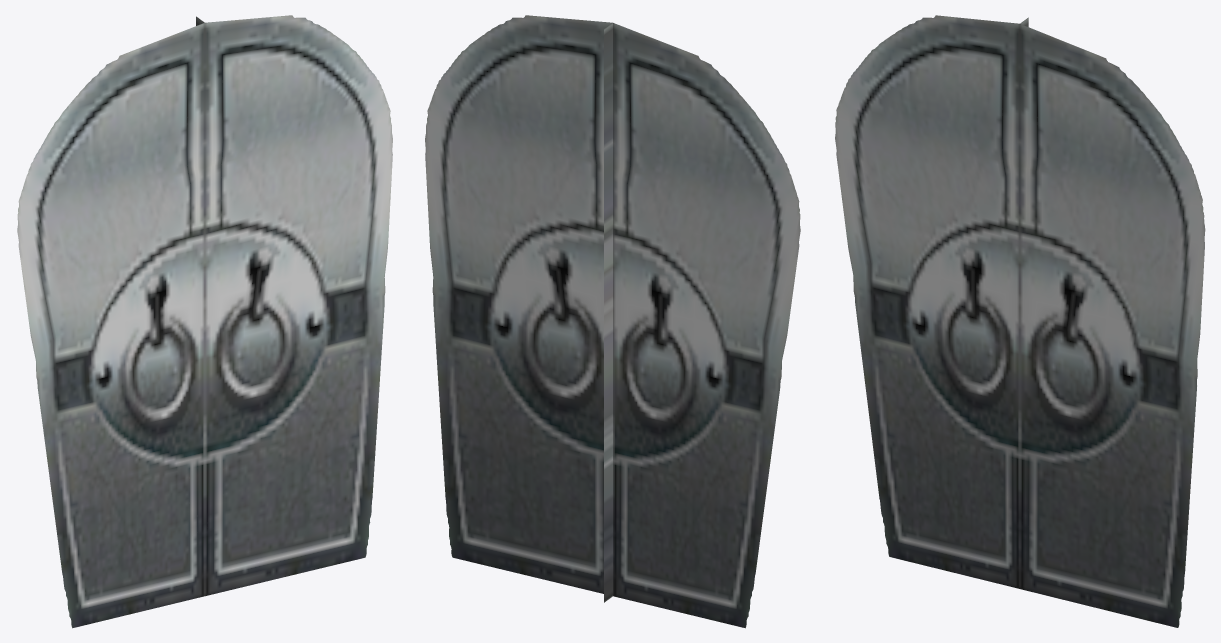
File: gate_04.fbx
The picture shows the model from 3 angles, left to right: view 1: azimuth 30°, elevation 25°; view 2: azimuth 150°, elevation 25°; view 3: azimuth 330°, elevation 25°; orthographic projection.
Parts seen in each view (by area): view 1: gate00_mesh; view 2: gate00_mesh; view 3: gate00_mesh.
Boxes of the visible parts, bbox=[...] form: gate00_mesh: bbox=[17, 15, 392, 628]; gate00_mesh: bbox=[425, 15, 800, 628]; gate00_mesh: bbox=[835, 15, 1205, 627].
Bounding box in the file's own units: 2.42 × 3.49 × 0.0993.
